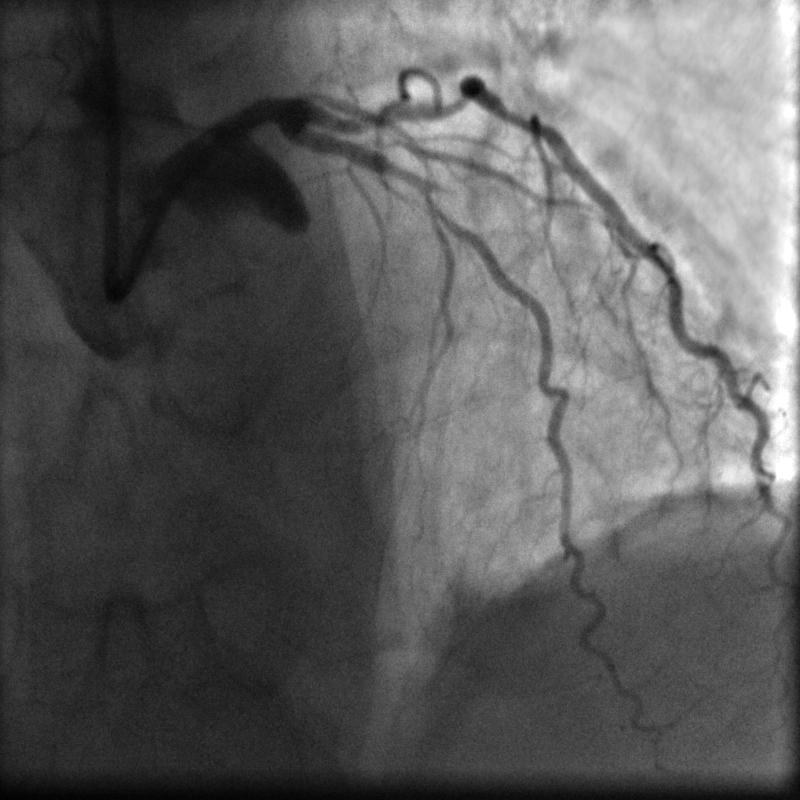Stenosis: (381, 147, 444, 209)
